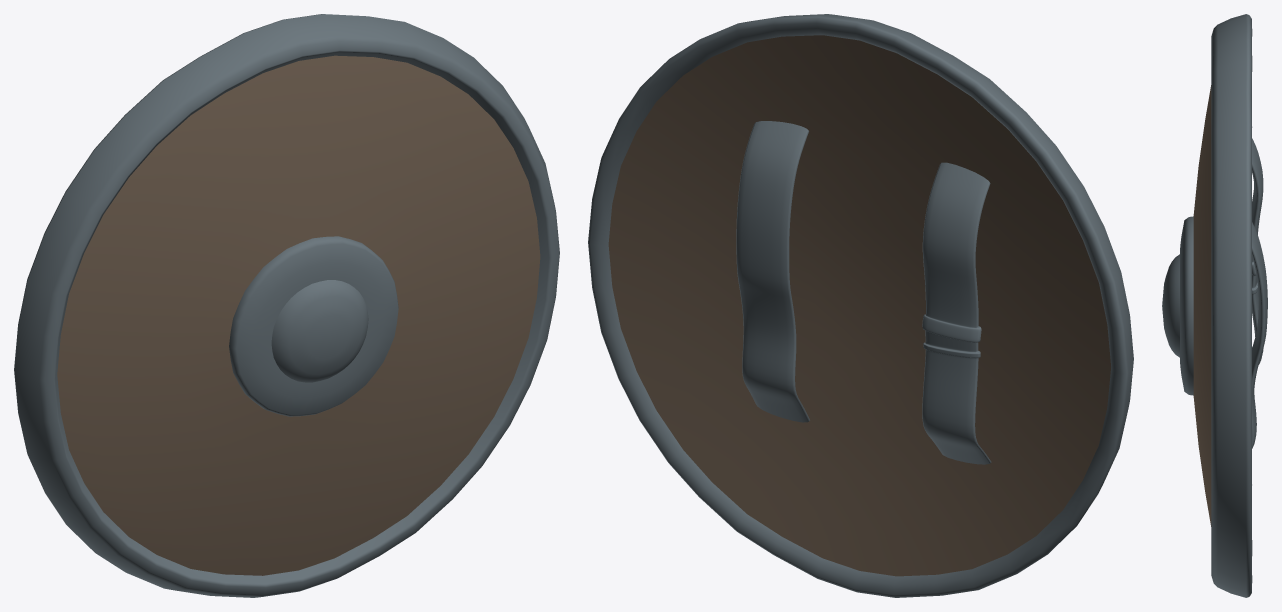
The model's file is WoodShield.fbx.
The picture shows the model from 3 angles, left to right: view 1: azimuth 30°, elevation 25°; view 2: azimuth 150°, elevation 25°; view 3: azimuth 270°, elevation 25°; orthographic projection. The views are drawn at different scales.
Visible parts, largest first — view 1: Shield_Geo; view 2: Shield_Geo, Straps_Geo; view 3: Shield_Geo, Straps_Geo.
Part boxes in pixels (bbox=[...]): Shield_Geo: bbox=[14, 14, 559, 597]; Shield_Geo: bbox=[588, 14, 1133, 597]; Straps_Geo: bbox=[736, 121, 991, 464]; Shield_Geo: bbox=[1162, 14, 1252, 597]; Straps_Geo: bbox=[1252, 138, 1267, 448].
Bounding box in the file's own units: 0.7753 × 0.7834 × 0.1409.
